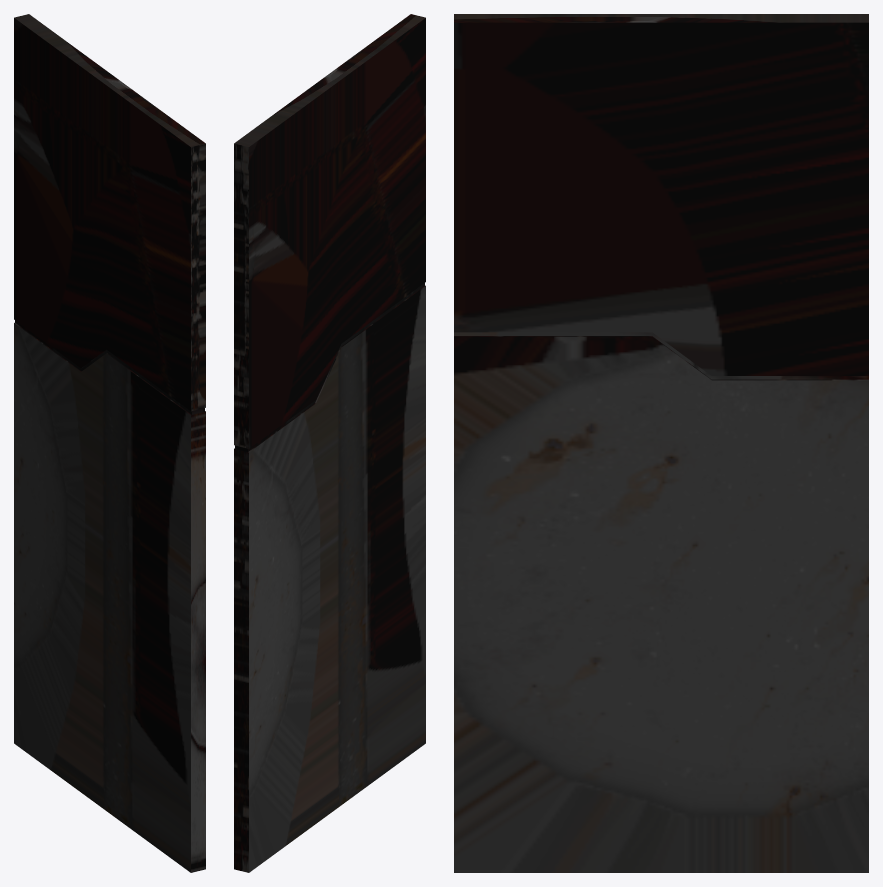
File: leftdoor.fbx
3 renders of one model, left to right at view 1: azimuth 30°, elevation 25°; view 2: azimuth 150°, elevation 25°; view 3: azimuth 270°, elevation 25°, orthographic. The views are drawn at different scales.
Parts seen in each view (by area): view 1: 12.001; view 2: 12.001; view 3: 12.001.
Part boxes in pixels (x1,y1,x2,y2): 12.001: (14, 14, 205, 872); 12.001: (234, 14, 425, 872); 12.001: (454, 14, 868, 872).
Bounding box in the file's own units: 3.92 × 181 × 79.86.
